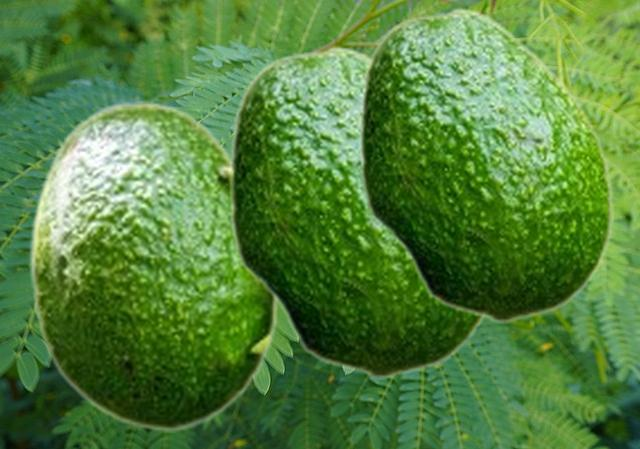avocado: (227, 44, 486, 378), (27, 101, 278, 431), (357, 6, 612, 322)
